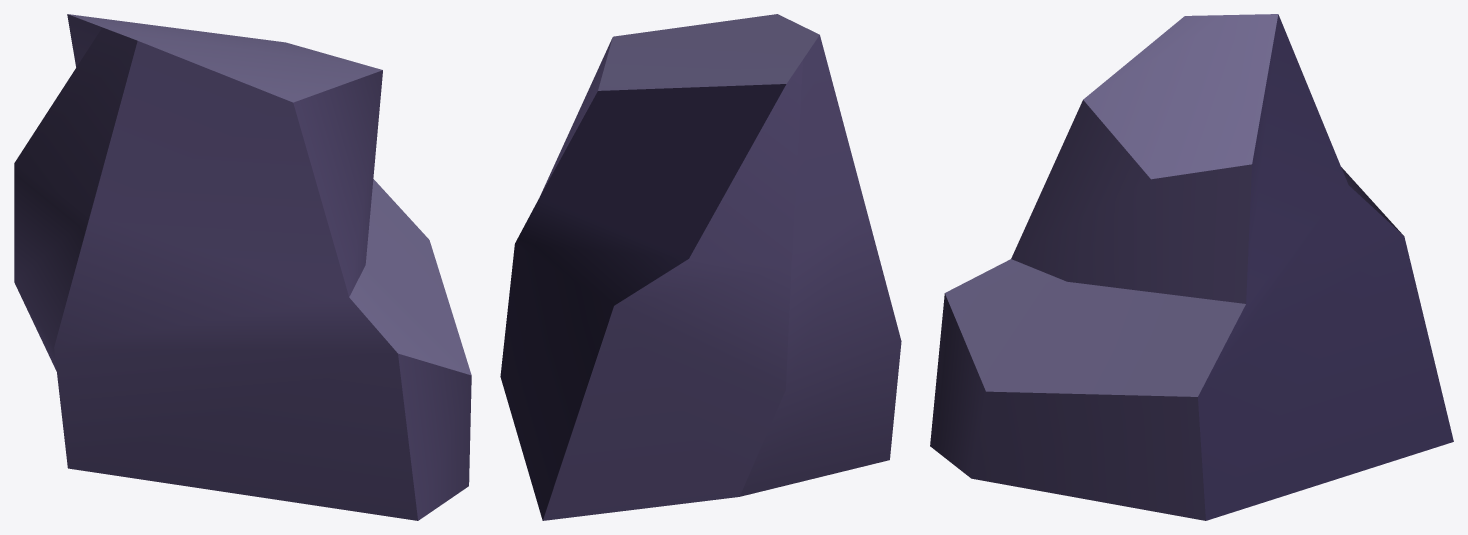
File: rock2.fbx
3 renders of one model, left to right at view 1: azimuth 30°, elevation 25°; view 2: azimuth 150°, elevation 25°; view 3: azimuth 270°, elevation 25°, orthographic. The views are drawn at different scales.
Parts seen in each view (by area): view 1: pCube50; view 2: pCube50; view 3: pCube50.
Boxes of the visible parts, x1=… form: pCube50: x1=14, y1=14, x2=471, y2=520; pCube50: x1=500, y1=14, x2=901, y2=520; pCube50: x1=930, y1=14, x2=1453, y2=520.
Bounding box in the file's own units: 113 × 113 × 145.
